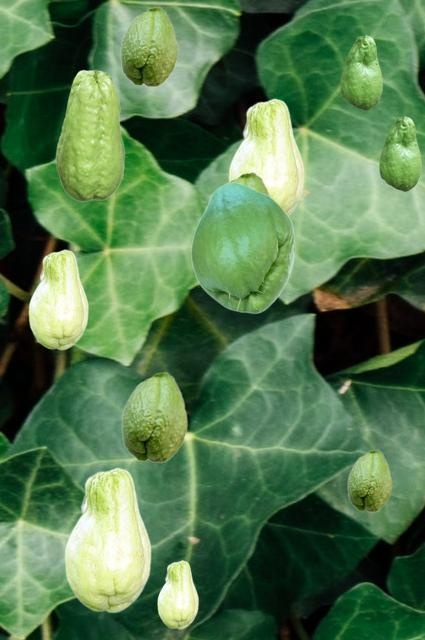sayote: (190, 182, 294, 313), (64, 467, 150, 612), (55, 69, 124, 201), (228, 98, 303, 215), (121, 371, 187, 462), (28, 249, 87, 349), (120, 6, 177, 86), (379, 116, 420, 190), (340, 35, 381, 109), (347, 449, 391, 511), (157, 560, 197, 628), (224, 171, 271, 196)
